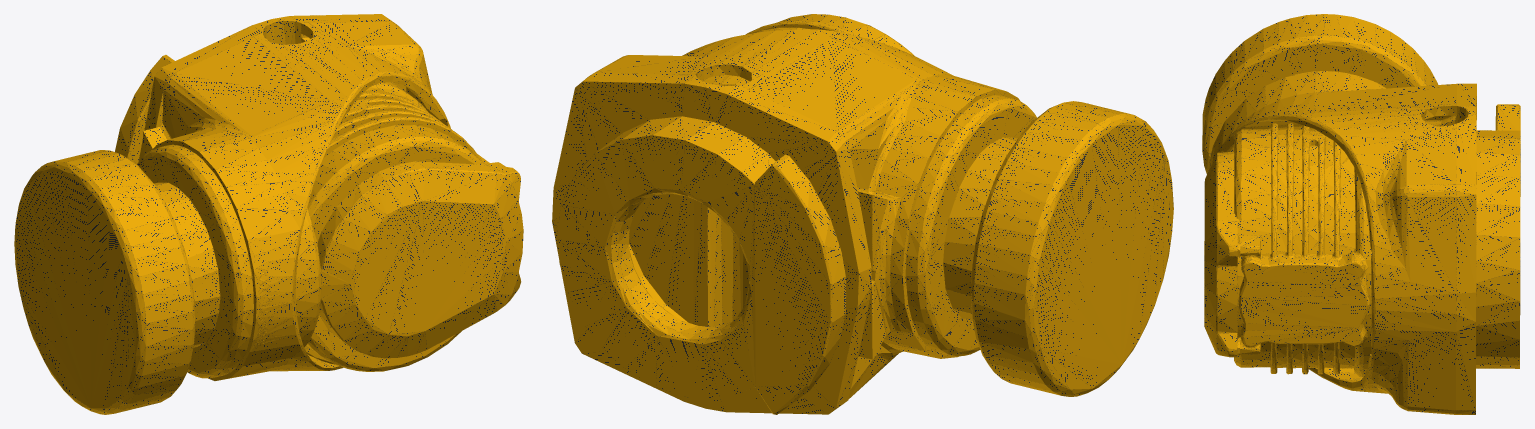
Rendered from front_left_hip.obj.
3 views of the same model, side by side, from view 1: azimuth 30°, elevation 25°; view 2: azimuth 150°, elevation 25°; view 3: azimuth 270°, elevation 25° (orthographic). The views are drawn at different scales.
Visible parts, largest first — view 1: front_left_hip; view 2: front_left_hip; view 3: front_left_hip.
Boxes of the visible parts, x1,y1,x2,y2 form: front_left_hip: (14, 14, 523, 414); front_left_hip: (552, 14, 1173, 414); front_left_hip: (1202, 14, 1520, 414).
Size of the model in its own units: 0.1417 by 0.0941 by 0.1001.
